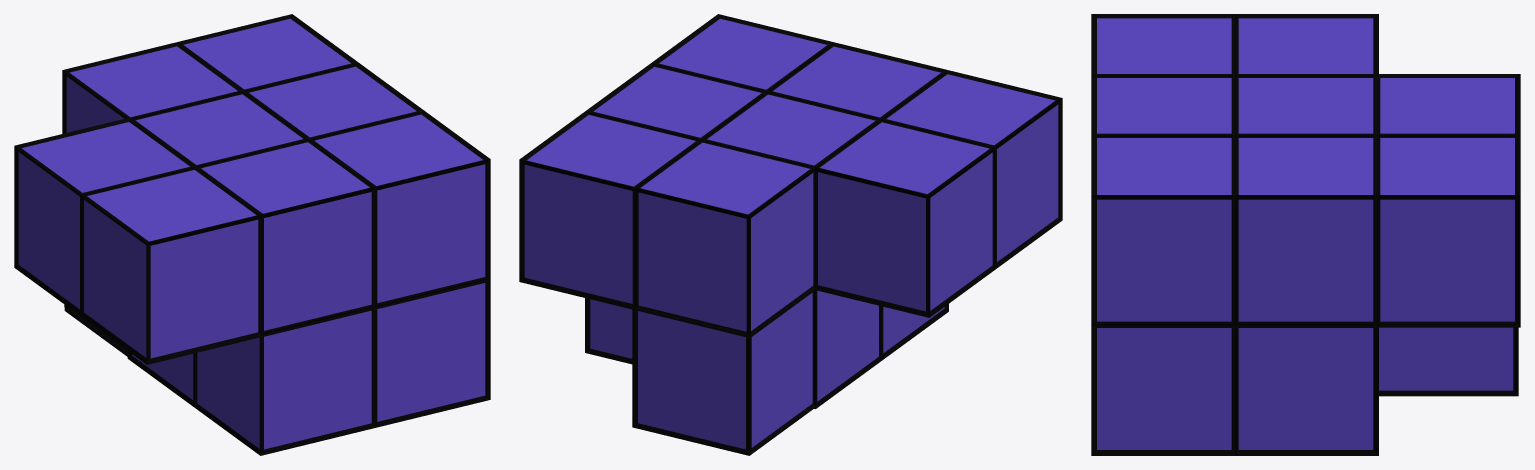
3 views of the same model, side by side, from view 1: azimuth 30°, elevation 25°; view 2: azimuth 150°, elevation 25°; view 3: azimuth 270°, elevation 25° (orthographic). The views are drawn at different scales.
Parts seen in each view (by area): view 1: d:Mesh group1; view 2: d:Mesh group1, group1 Mesh; view 3: d:Mesh group1, group1 Mesh.
Boxes of the visible parts, x1,y1,x2,y2 form: d:Mesh group1: (14, 14, 490, 455); d:Mesh group1: (519, 14, 1062, 408); group1 Mesh: (632, 286, 817, 455); d:Mesh group1: (1091, 14, 1520, 455); group1 Mesh: (1379, 327, 1518, 396).
Size of the model in its own units: 6.06 by 4.06 by 6.06.
